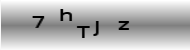7: (31, 15, 45, 29)
J: (91, 20, 99, 37)
T: (74, 24, 91, 39)
h: (58, 8, 74, 22)
z: (117, 21, 131, 31)
